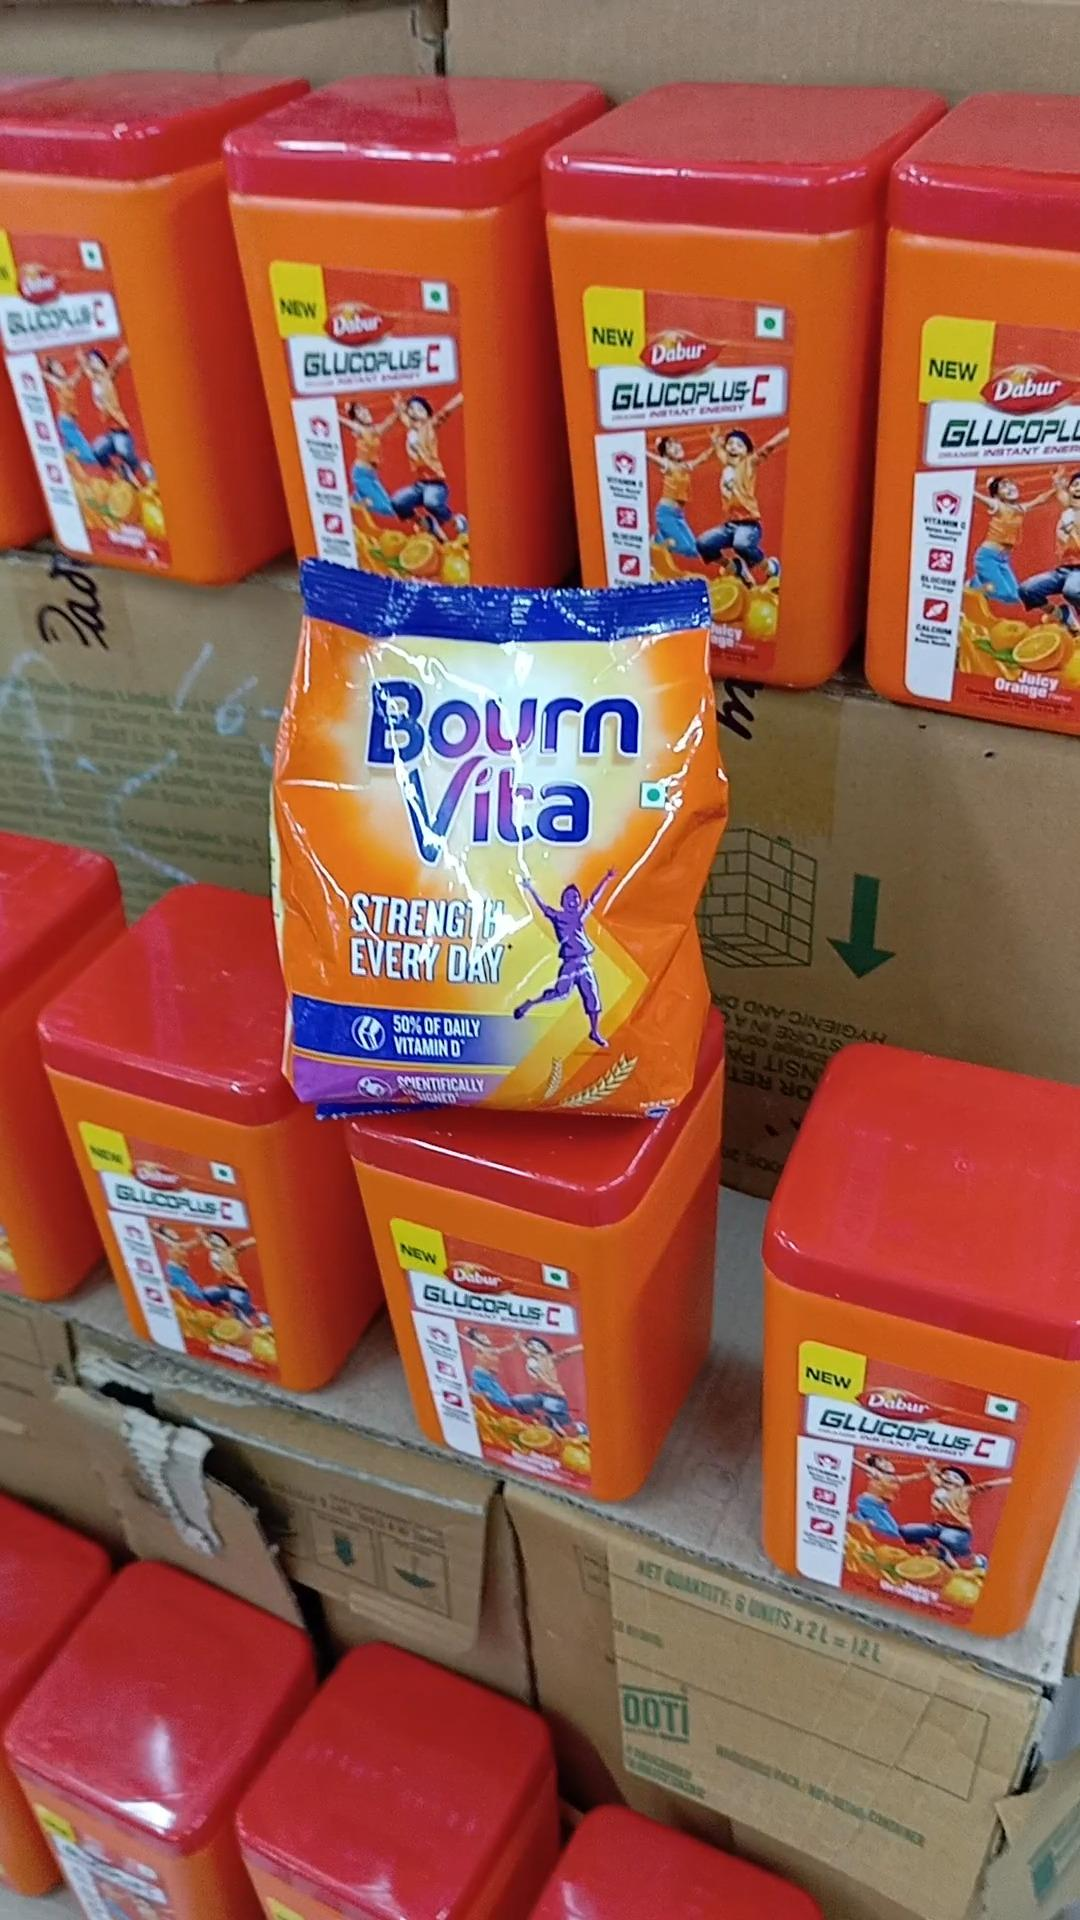BOURN_VITA_500_G_POUCH: (285, 575, 713, 1114)
